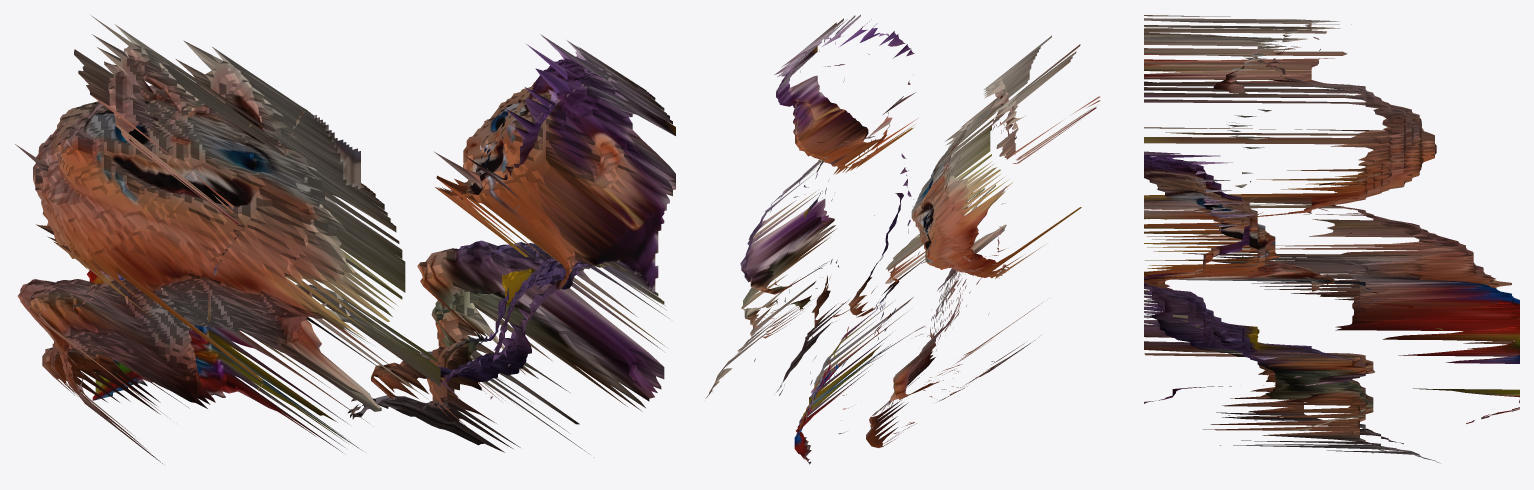
The model's file is frame_00435.glb.
The picture shows the model from 3 angles, left to right: view 1: azimuth 30°, elevation 25°; view 2: azimuth 150°, elevation 25°; view 3: azimuth 270°, elevation 25°; orthographic projection. The views are drawn at different scales.
Visible parts, largest first — view 1: geometry_0; view 2: geometry_0; view 3: geometry_0.
Boxes of the visible parts, x1,y1,x2,y2 form: geometry_0: (15,15,675,463); geometry_0: (705,14,1100,464); geometry_0: (1144,15,1519,463).
Bounding box in the file's own units: 0.1575 × 0.1626 × 0.16.
Materials: 1 (1 with a texture image).
